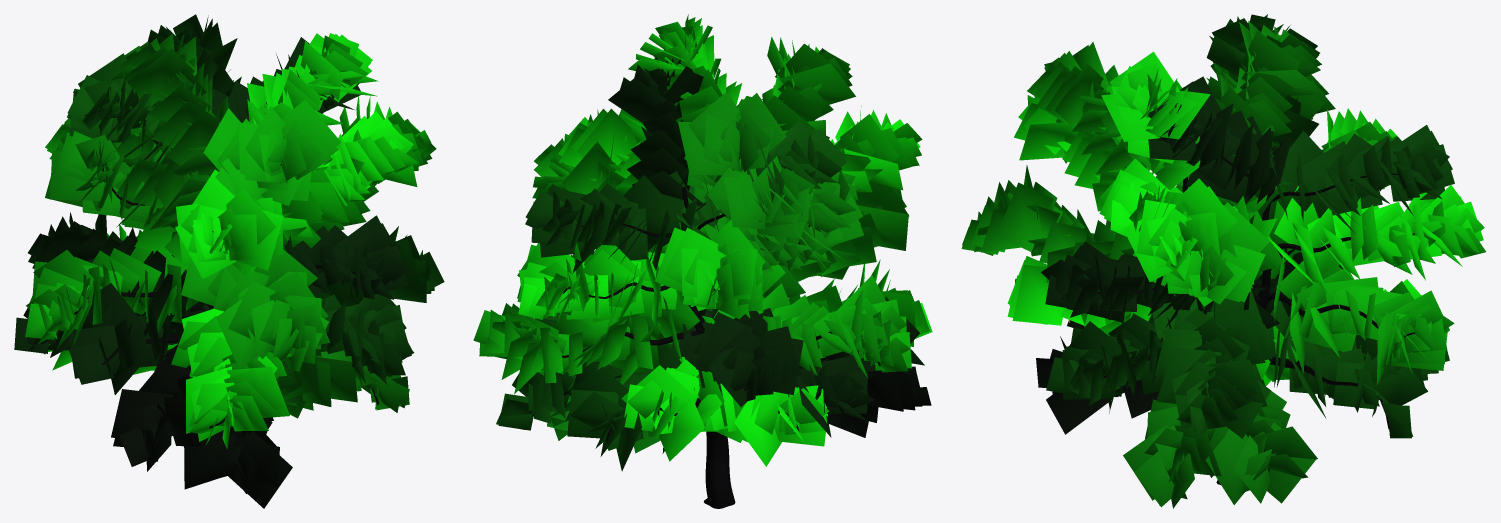
File: Maple_9.fbx
3 renders of one model, left to right at view 1: azimuth 30°, elevation 25°; view 2: azimuth 150°, elevation 25°; view 3: azimuth 270°, elevation 25°, orthographic. The views are drawn at different scales.
Visible parts, largest first — view 1: Maple_9; view 2: Maple_9; view 3: Maple_9.
Boxes of the visible parts, box(x1,y1,x2,y2) form: Maple_9: box(14, 14, 444, 508); Maple_9: box(473, 14, 932, 508); Maple_9: box(961, 14, 1485, 508).
Size of the model in its own units: 390 by 419 by 438.
